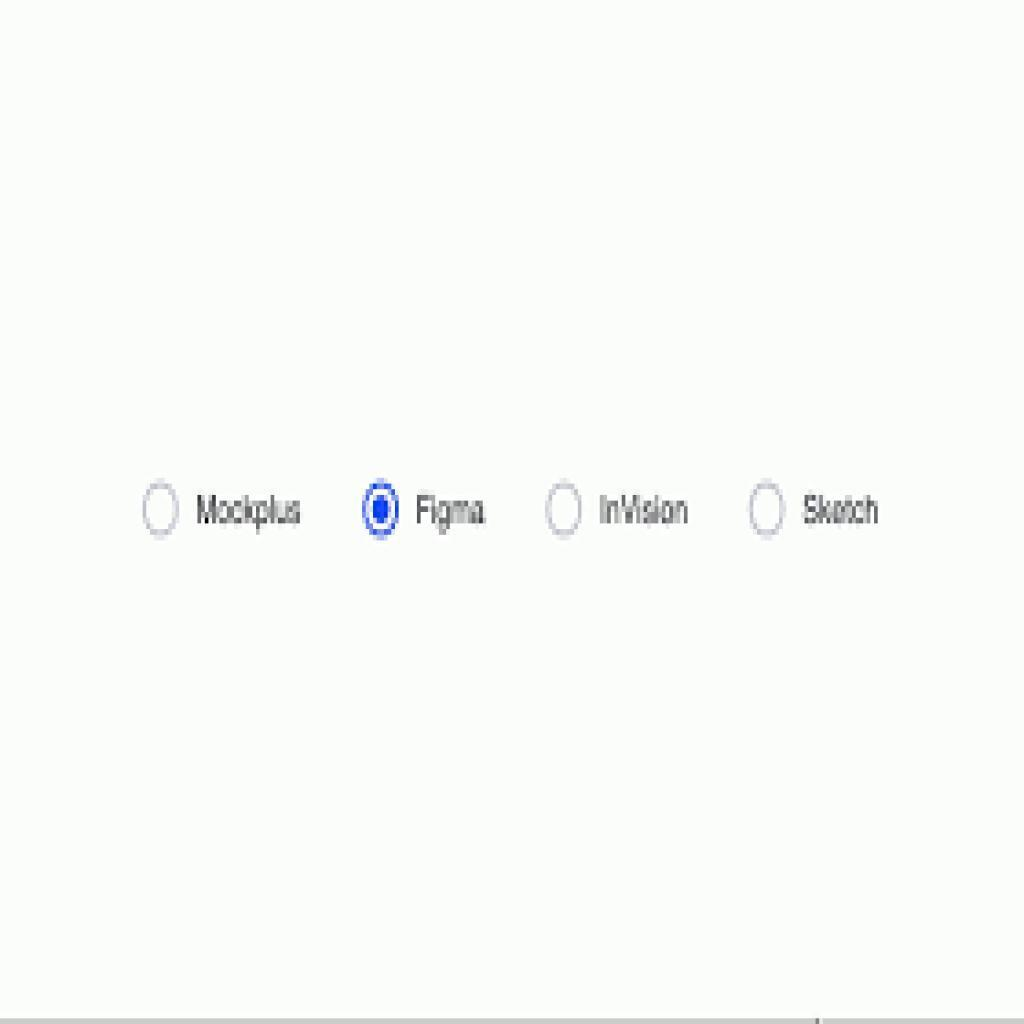radio: (362, 472, 405, 541), (748, 477, 790, 542), (140, 476, 182, 539), (544, 477, 586, 540)
